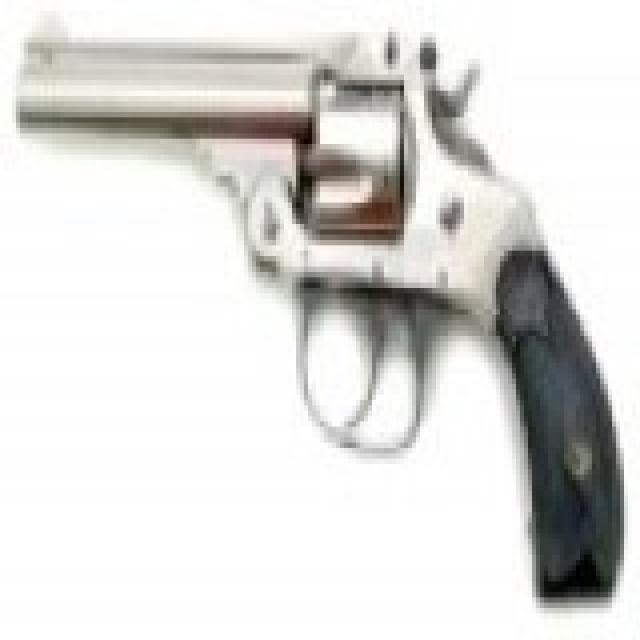gun: (8, 11, 624, 597)
